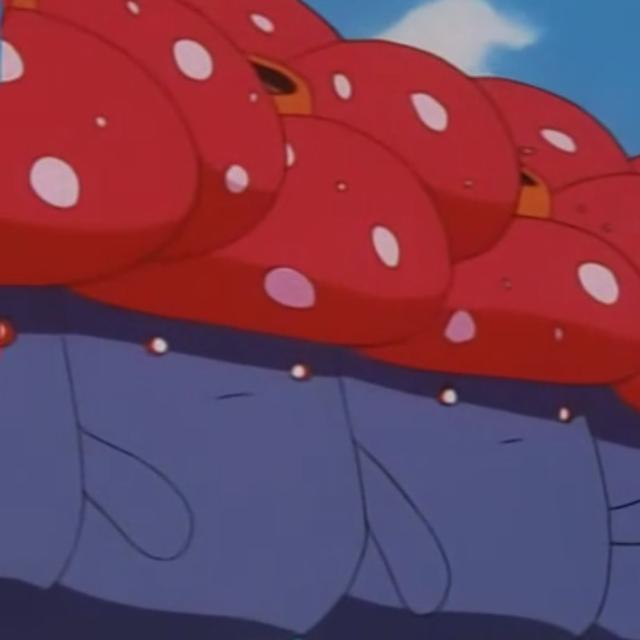Vileplume: (44, 37, 426, 603)
